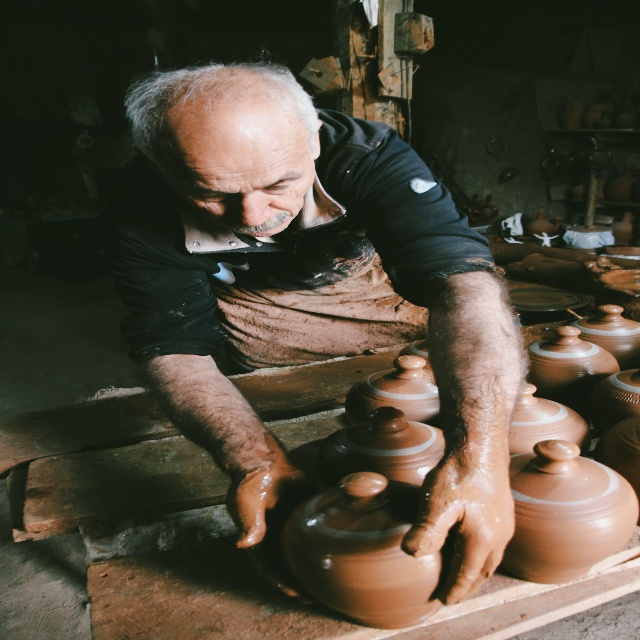Sin_guantes: (402, 455, 516, 606), (226, 457, 314, 609)
